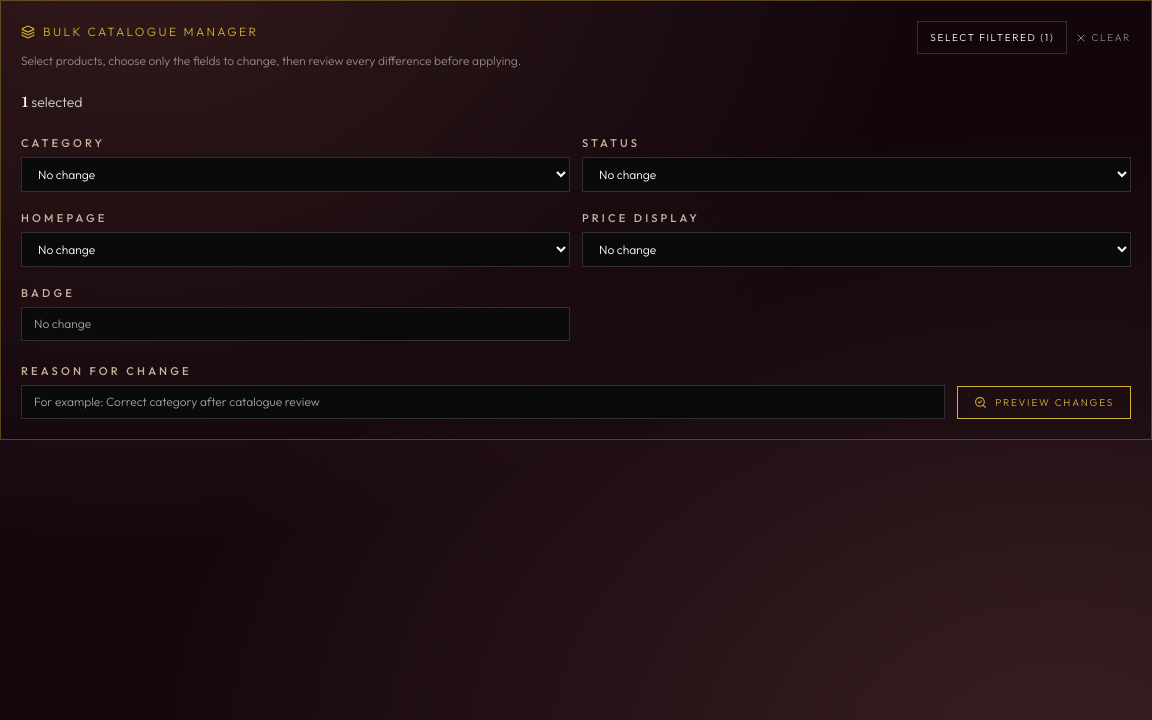
Test: requires a preview and shows exact old and new values
The width and height of the screenshot is (1152, 720).
Step 1. Select "Draft / Needs review" in the dropdown with test id "bulk-status" → (856,174), box 582,157 -> 1131,192
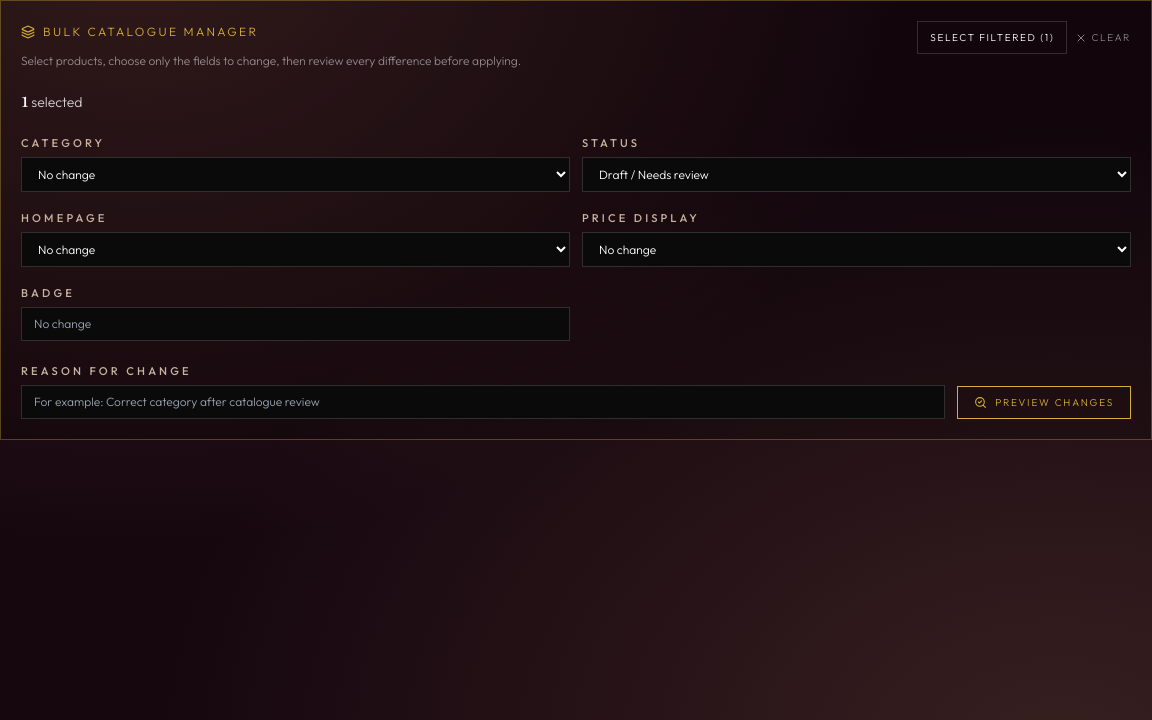
Step 2. Click the button with test id "bulk-preview" → (1044,402), box 957,386 -> 1131,419
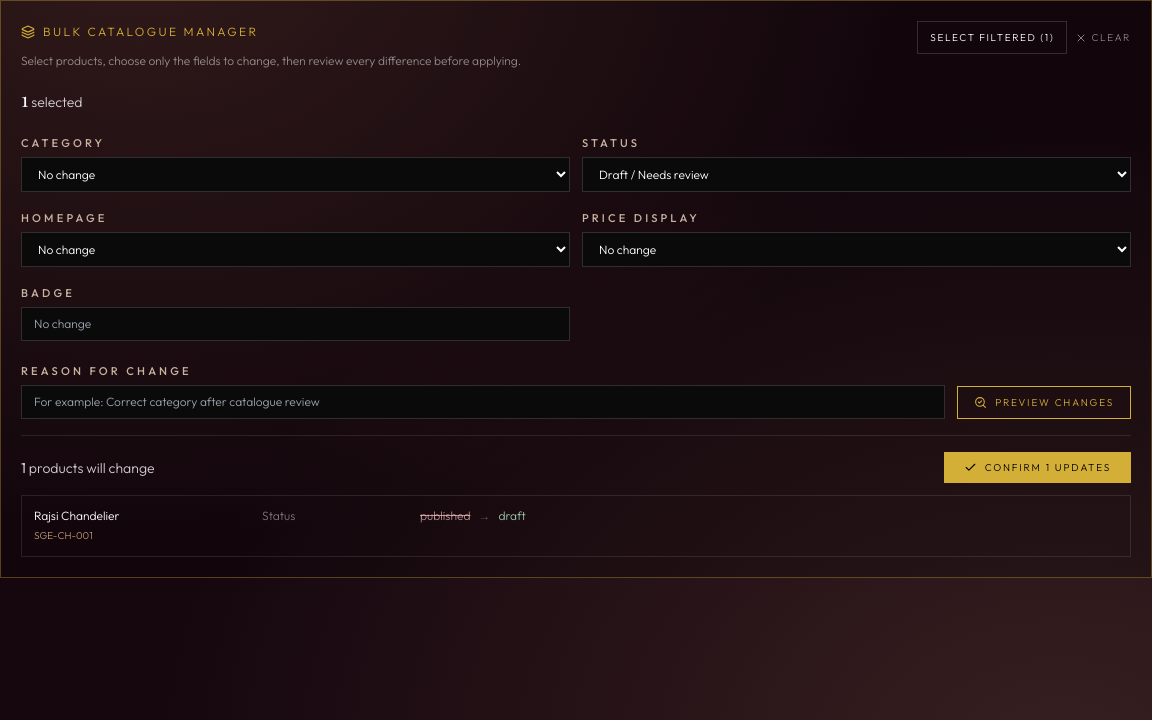
Check: the element with test id "bulk-preview-panel" is shown, box 21,435 -> 1131,557
Check: the text "Rajsi Chandelier" is shown, box 34,508 -> 120,523
Check: the text "published" is shown, box 420,508 -> 470,523
